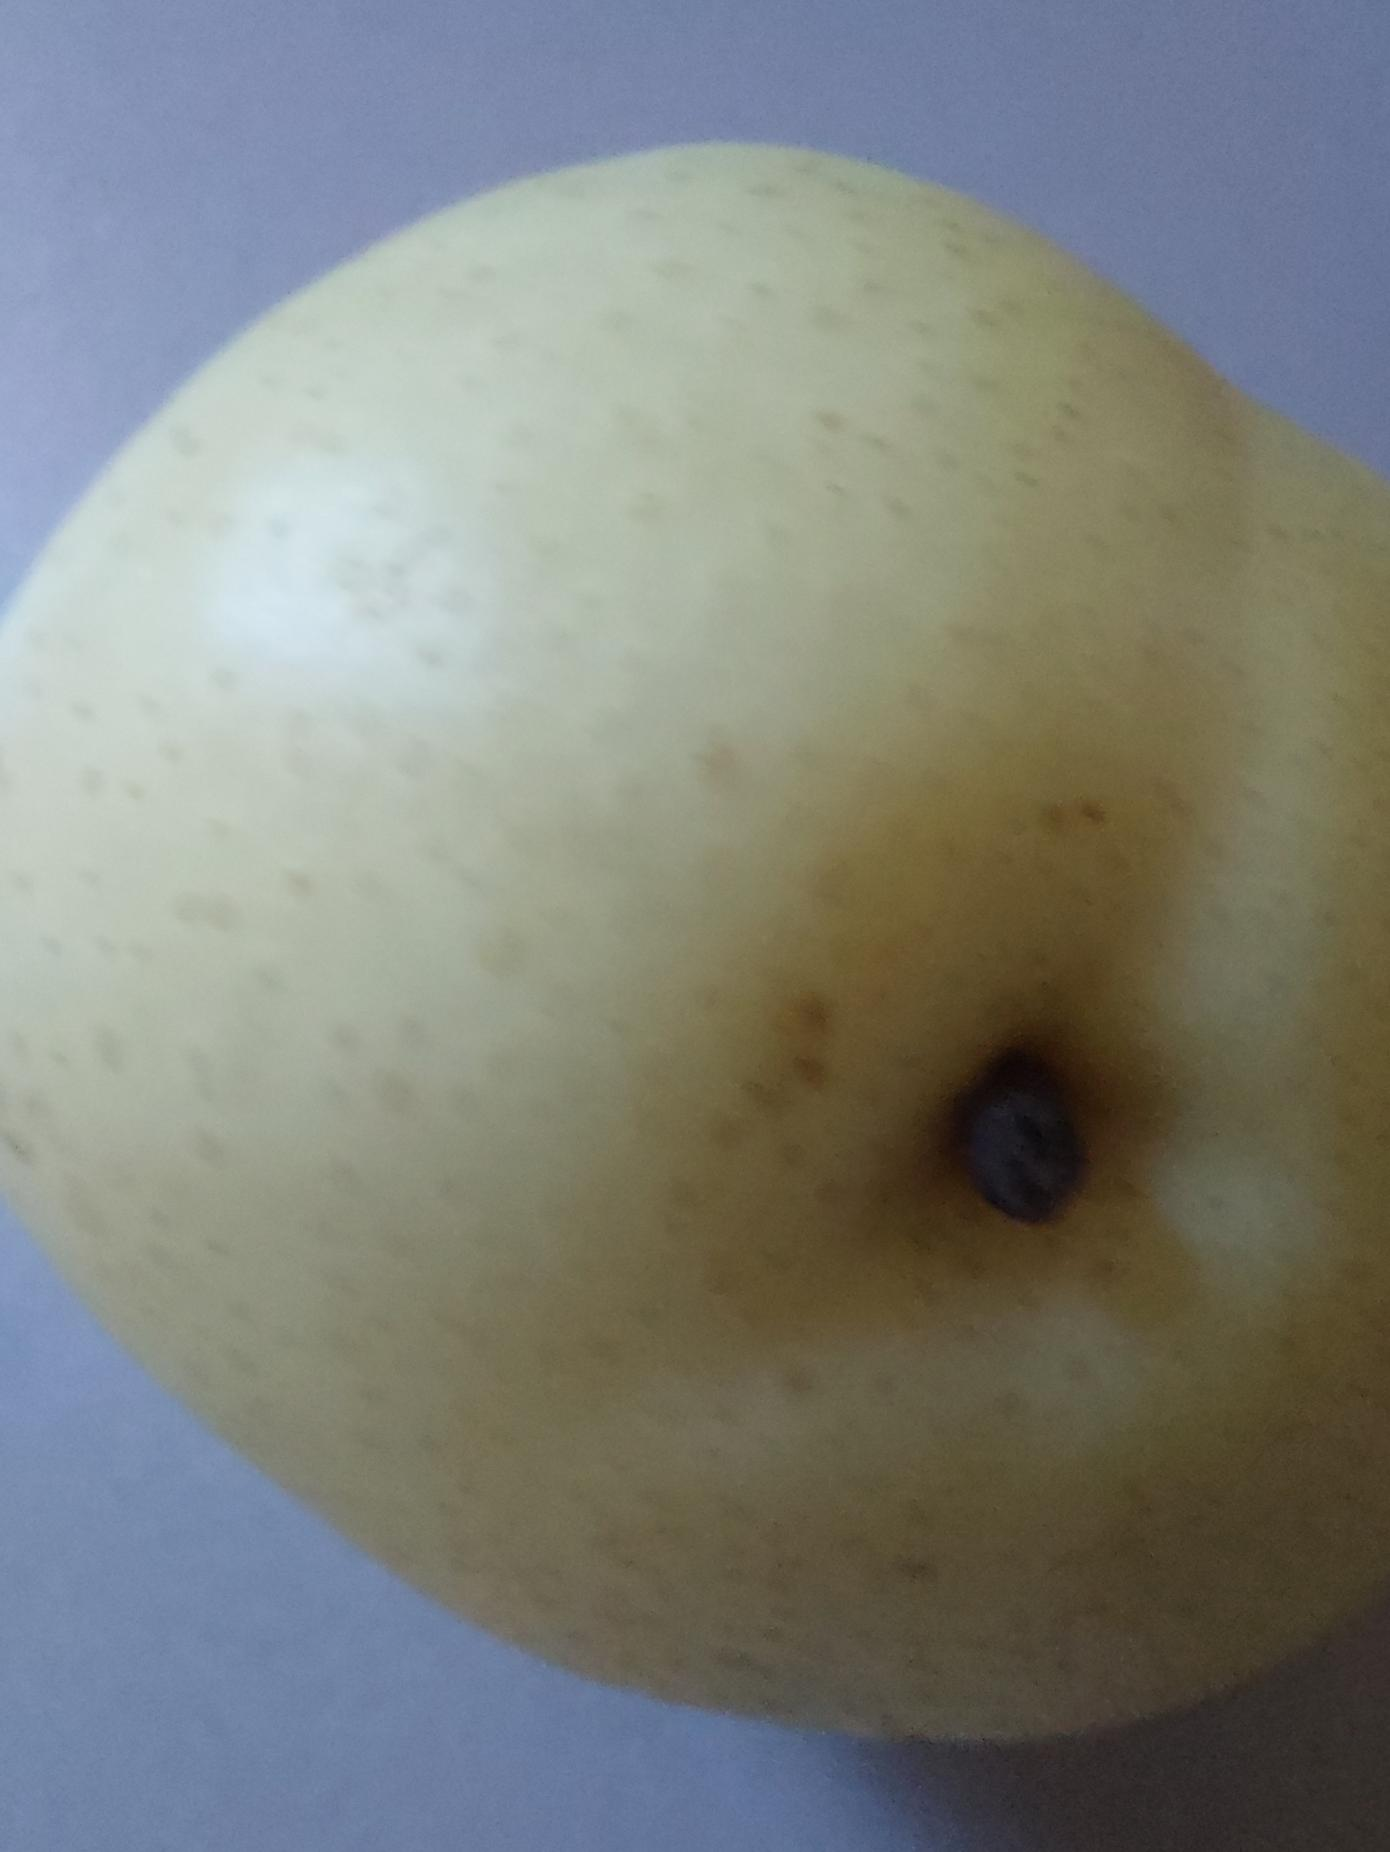Good Pear: (0, 117, 1390, 1786)
